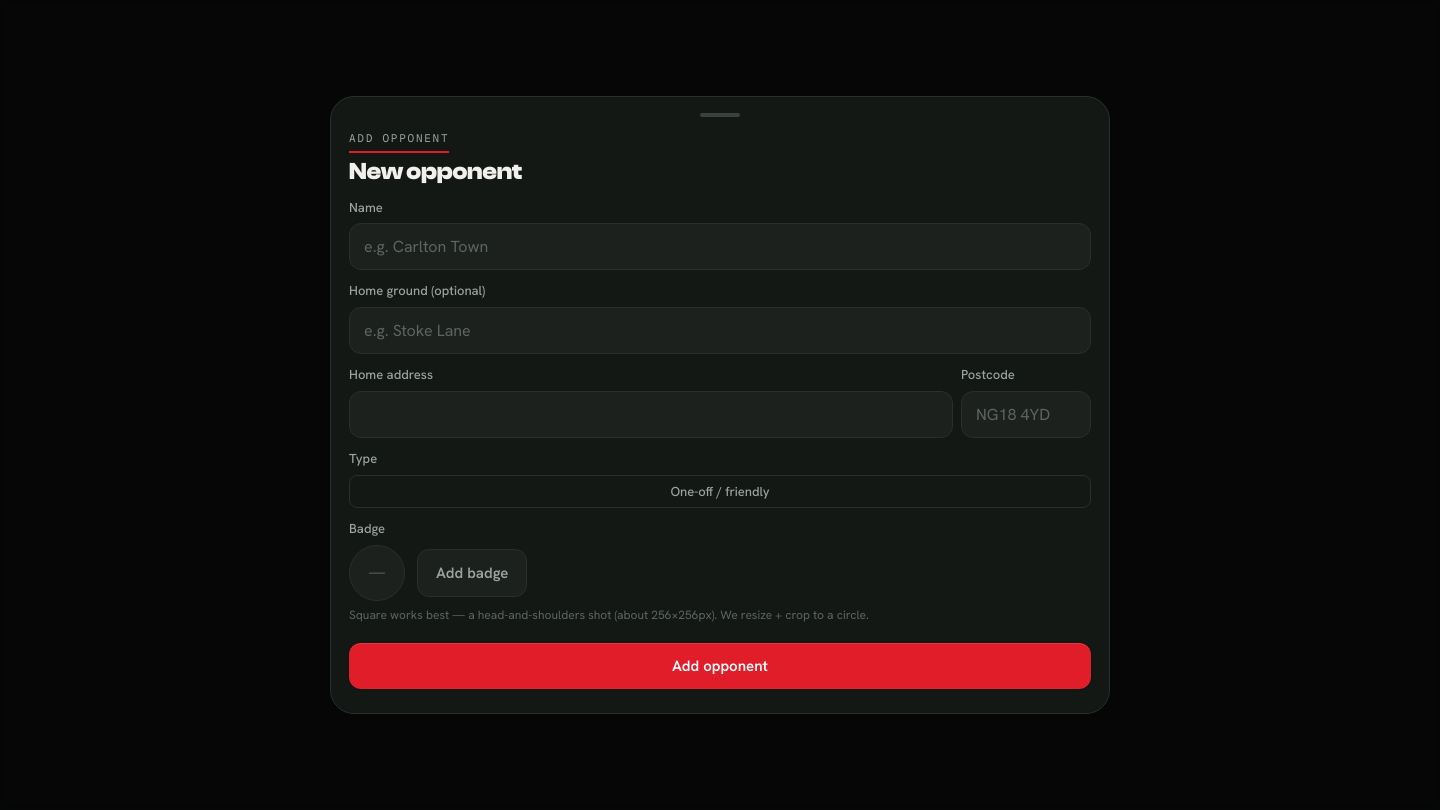
OpponentForm › name is required — blocks save, flags the field, pops an error
Click the button "Add opponent" at (720, 666), box left=349, top=643, right=1091, bottom=689
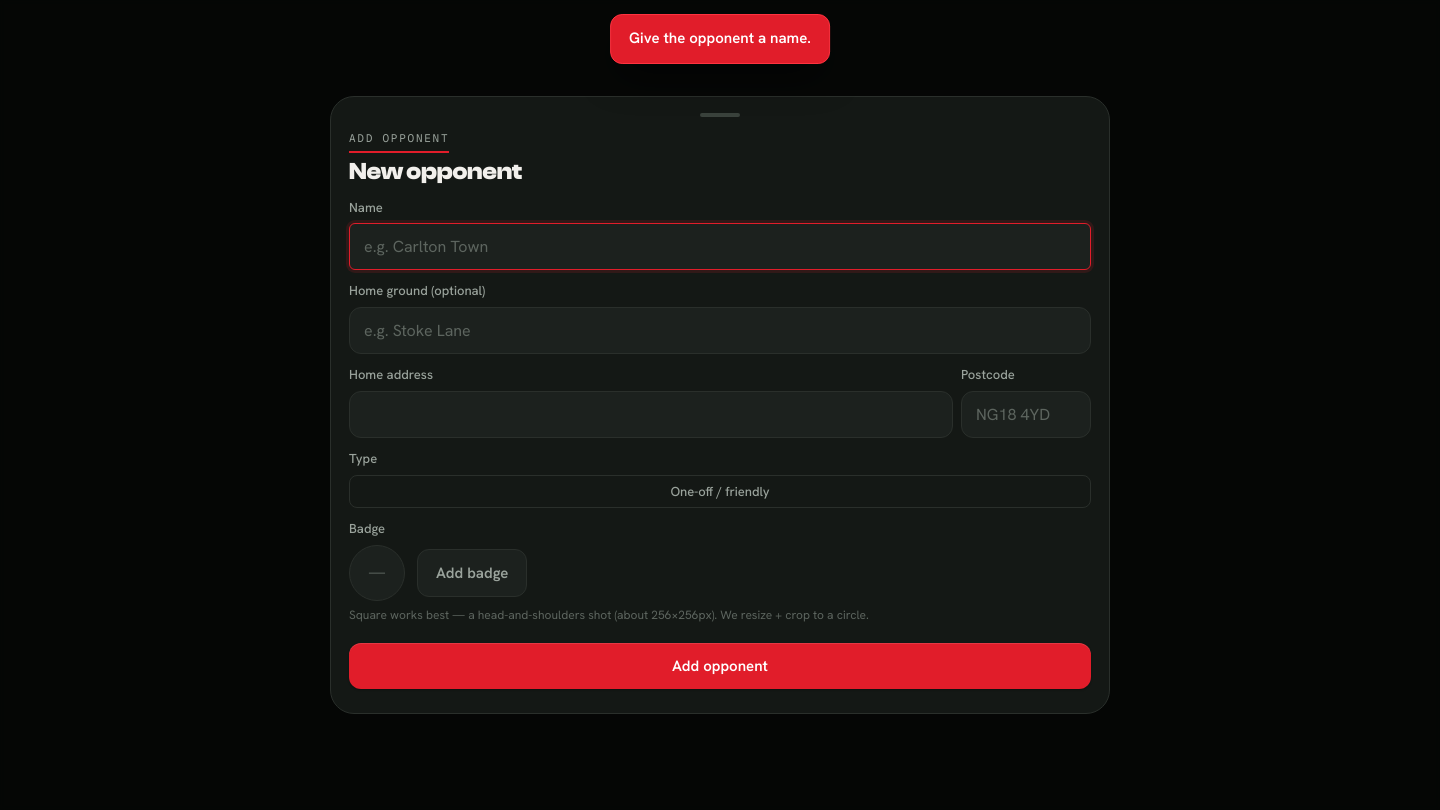
Expected: the message shows "name", left=629, top=28, right=811, bottom=48
